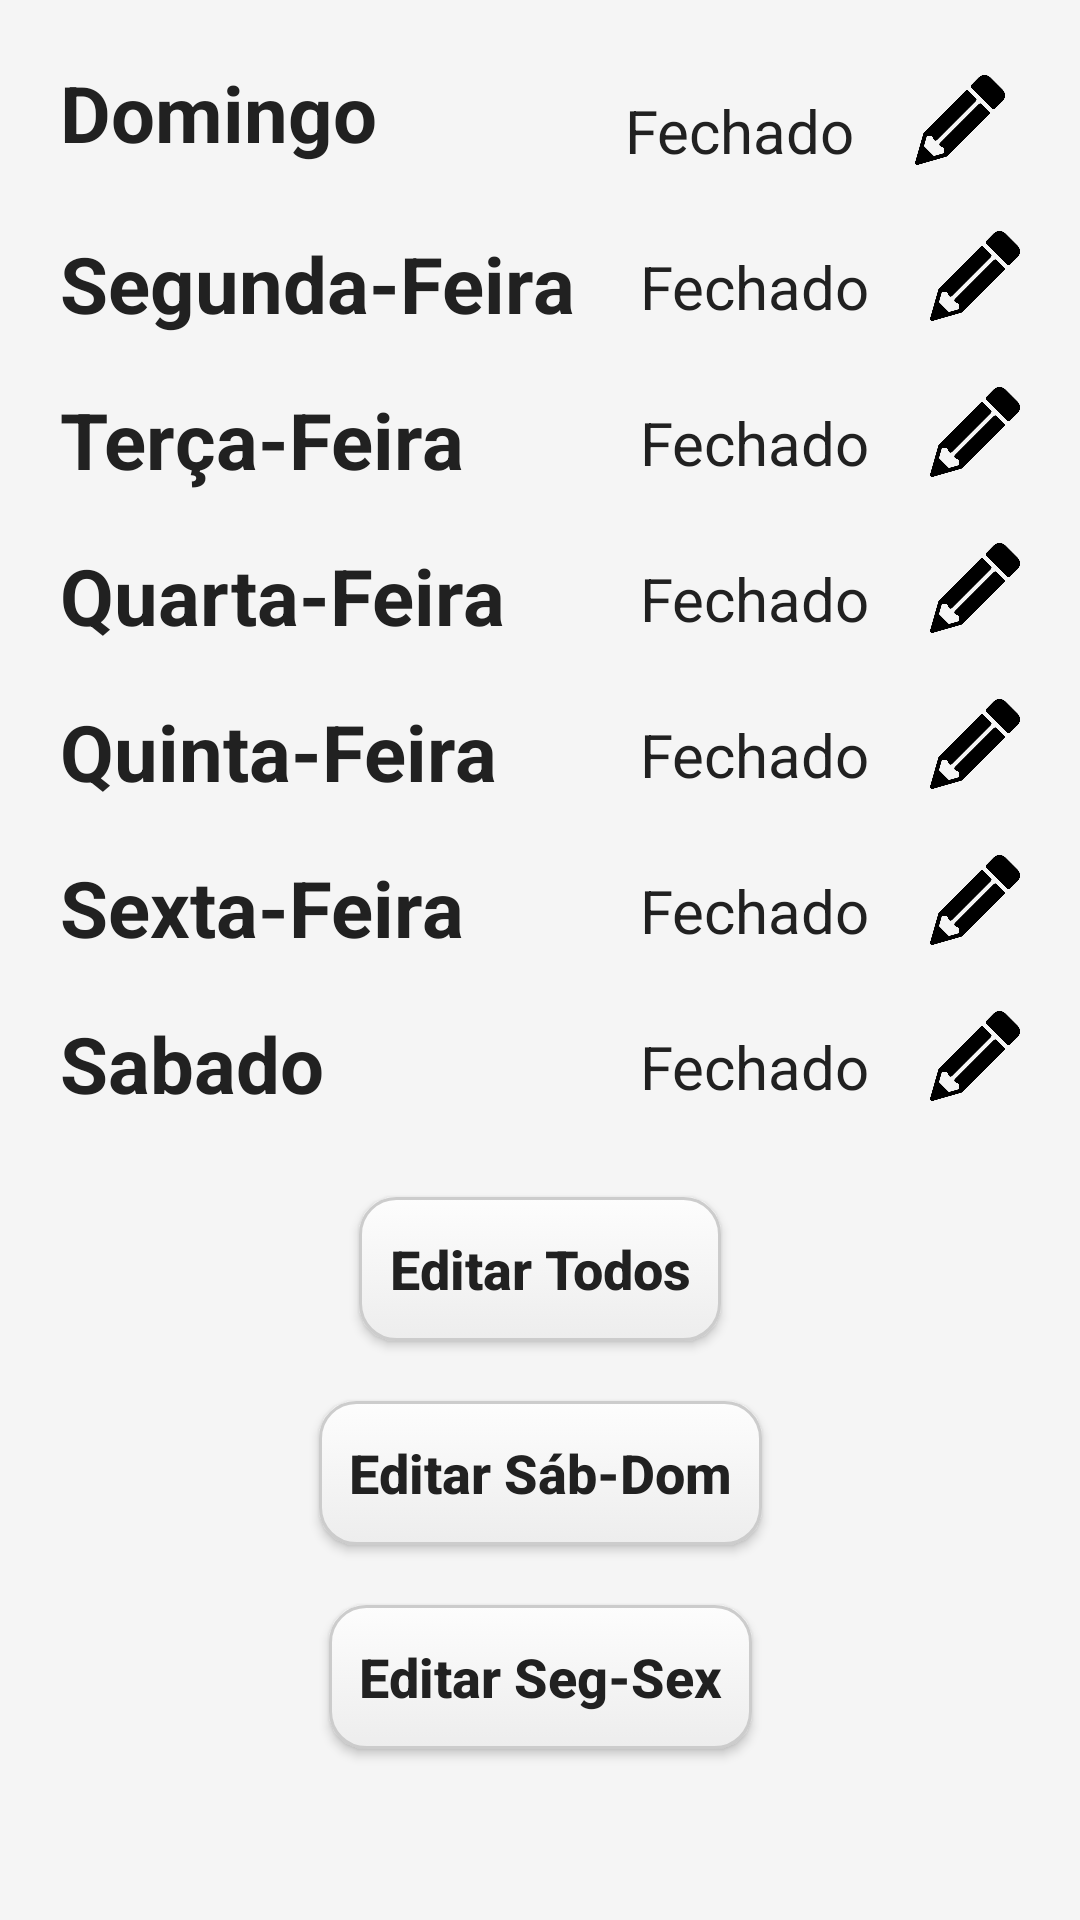

Where to tap for icons on this 1080*1920 app screen, as (x,y):
lapis: (960,120), (975,276), (975,432), (975,588), (975,744), (975,900), (975,1056)
